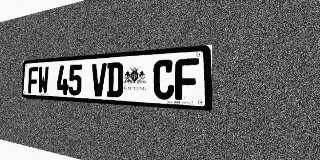4: (57, 65, 69, 95)
5: (69, 64, 82, 96)
C: (153, 59, 174, 100)
D: (107, 62, 123, 97)
F: (175, 58, 199, 101), (28, 67, 38, 94)
V: (91, 63, 107, 97)
W: (38, 66, 49, 94)
